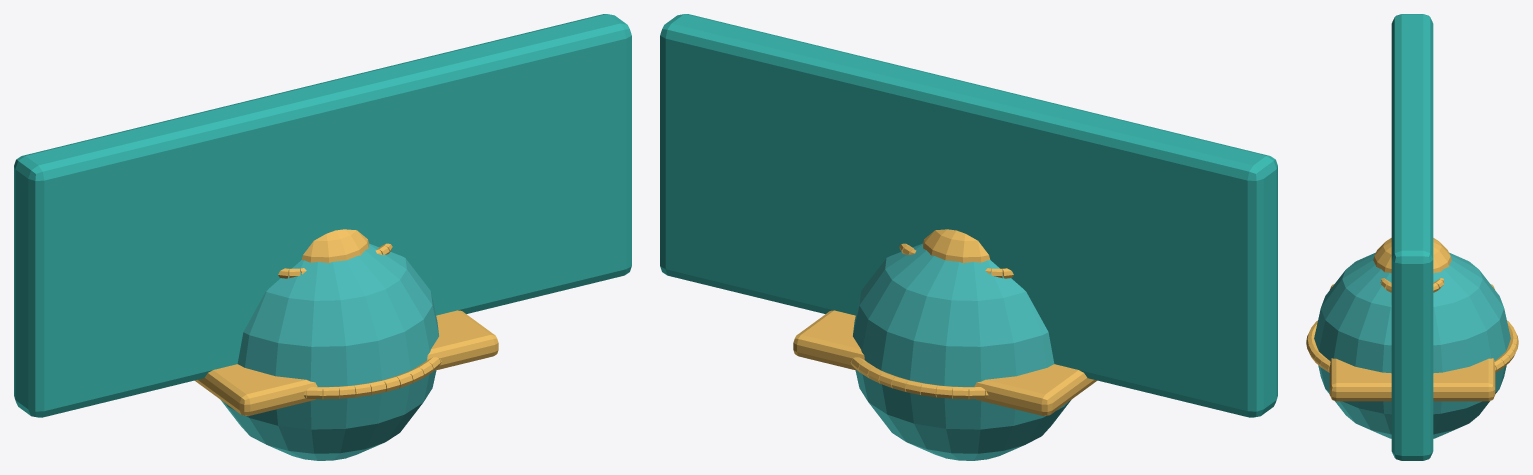
The model's file is equipment.glb.
The picture shows the model from 3 angles, left to right: view 1: azimuth 30°, elevation 25°; view 2: azimuth 150°, elevation 25°; view 3: azimuth 270°, elevation 25°; orthographic projection. The views are drawn at different scales.
Visible parts, largest first — view 1: MovingGate, Target, FloorTile, Trophy; view 2: MovingGate, Target, FloorTile, Trophy; view 3: MovingGate, Target, FloorTile, Trophy.
Boxes of the visible parts, x1,y1,x2,y2 form: MovingGate: (14, 14, 631, 417); Target: (221, 243, 441, 460); FloorTile: (194, 310, 498, 415); Trophy: (278, 229, 392, 278); MovingGate: (660, 14, 1277, 417); Target: (850, 243, 1070, 460); FloorTile: (793, 310, 1097, 415); Trophy: (899, 229, 1013, 278); MovingGate: (1391, 14, 1433, 460); Target: (1306, 252, 1518, 438); FloorTile: (1329, 284, 1495, 401); Trophy: (1373, 238, 1451, 292).
Bounding box in the file's own units: 7 × 4 × 2.57.
